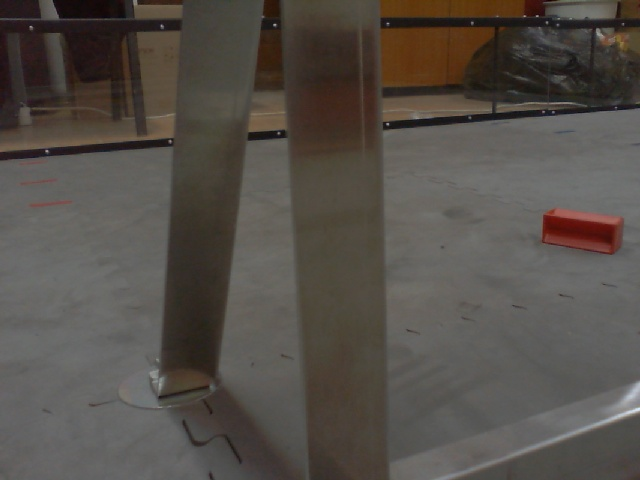RedSample: (539, 206, 626, 254)
